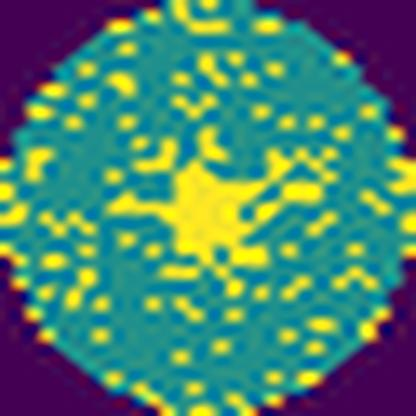Center: (145, 167, 266, 255)
